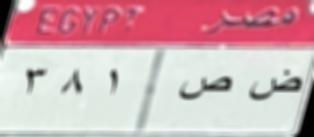1: (101, 63, 127, 99)
3: (20, 59, 50, 97)
8: (55, 65, 87, 100)
daad: (248, 66, 302, 109)
saad: (177, 70, 234, 105)
